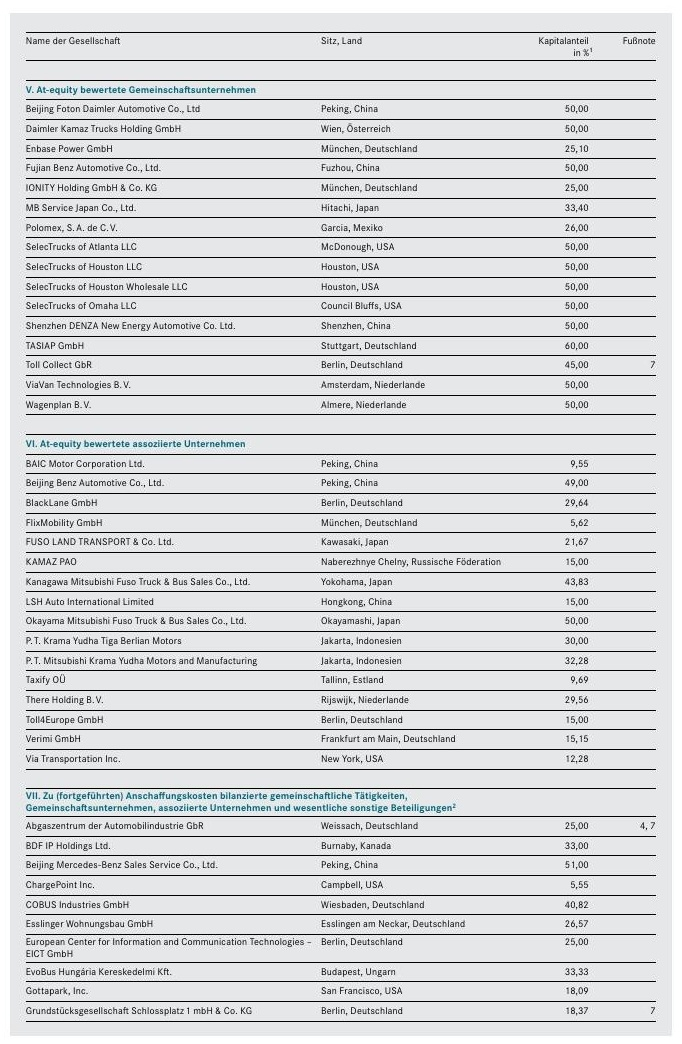table: (0, 0, 682, 1044)
